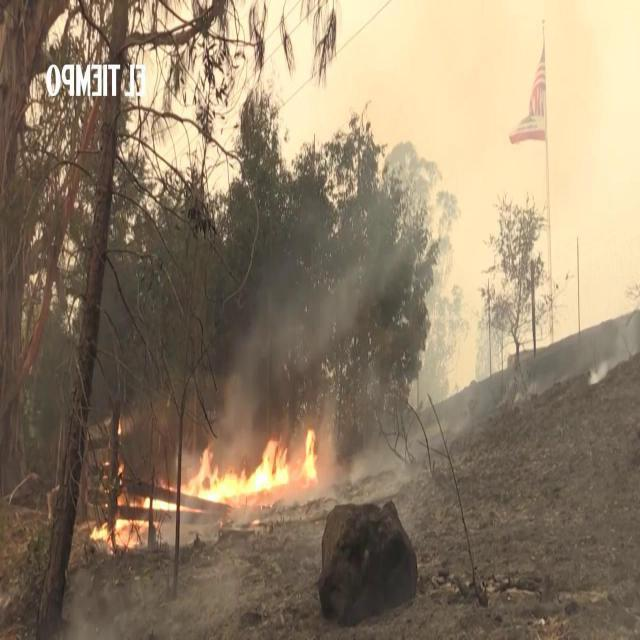Fire: (182, 428, 318, 498), (91, 518, 146, 553)
